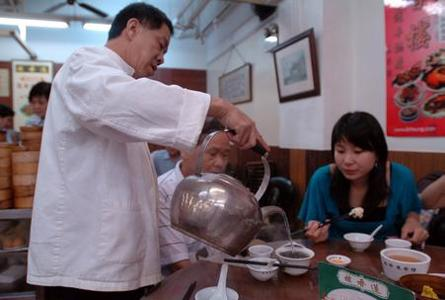person: (27, 3, 272, 298)
